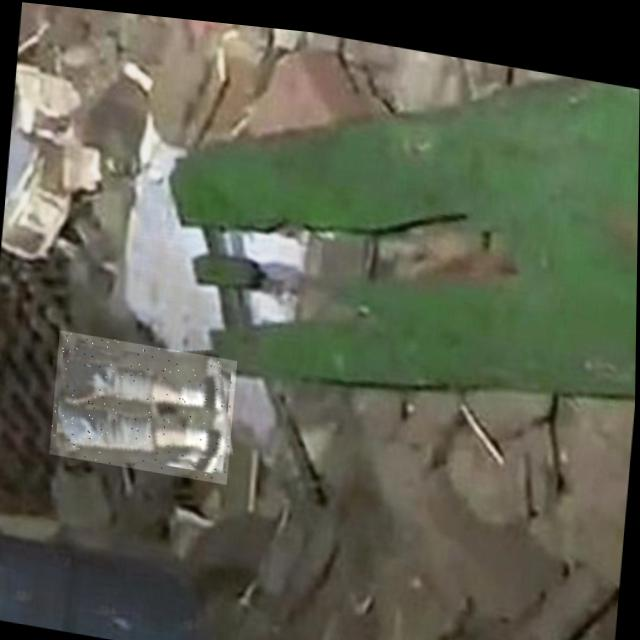Person in Rubble: (50, 327, 238, 479)
